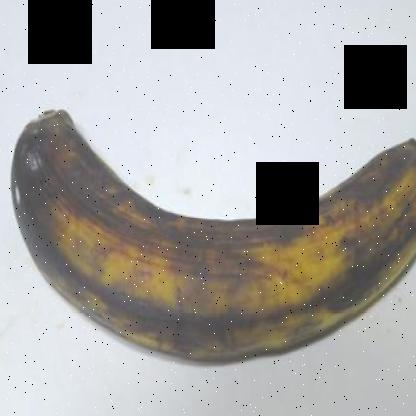overripe: (3, 82, 415, 376)
rotten: (1, 106, 79, 270)
